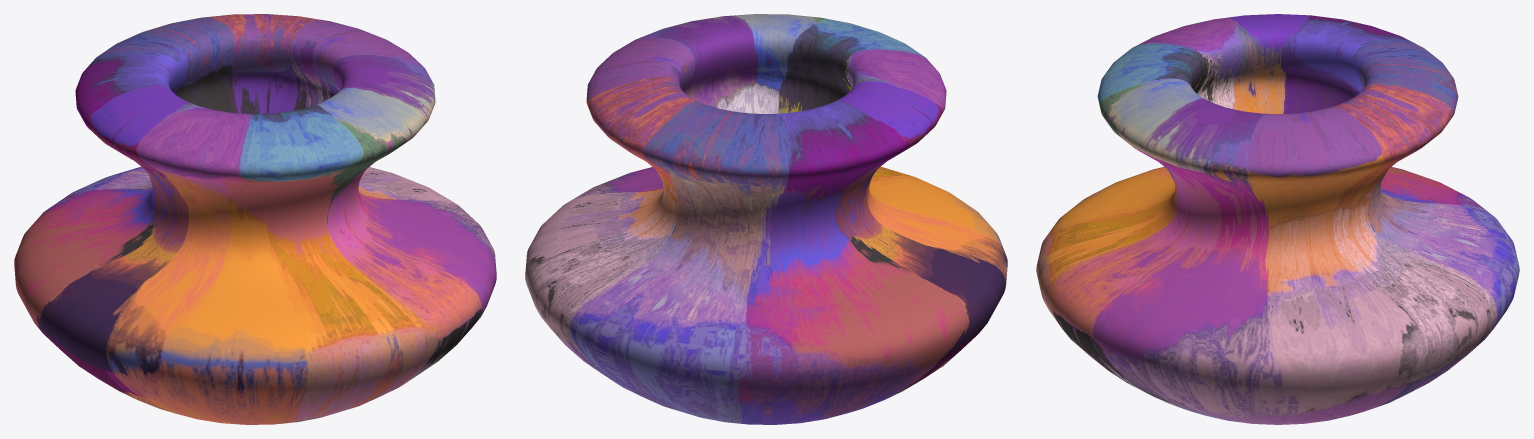
Rendered from painted_vase.glb.
3 views of the same model, side by side, from view 1: azimuth 30°, elevation 25°; view 2: azimuth 150°, elevation 25°; view 3: azimuth 270°, elevation 25° (orthographic).
Visible parts, largest first — view 1: Object_4; view 2: Object_4; view 3: Object_4.
Part boxes in pixels (x1,y1,x2,y2): Object_4: (14,14,496,424); Object_4: (525,14,1007,424); Object_4: (1036,14,1519,424).
Bounding box in the file's own units: 1.24 × 0.8762 × 1.24.
1 material, 1 textured.
